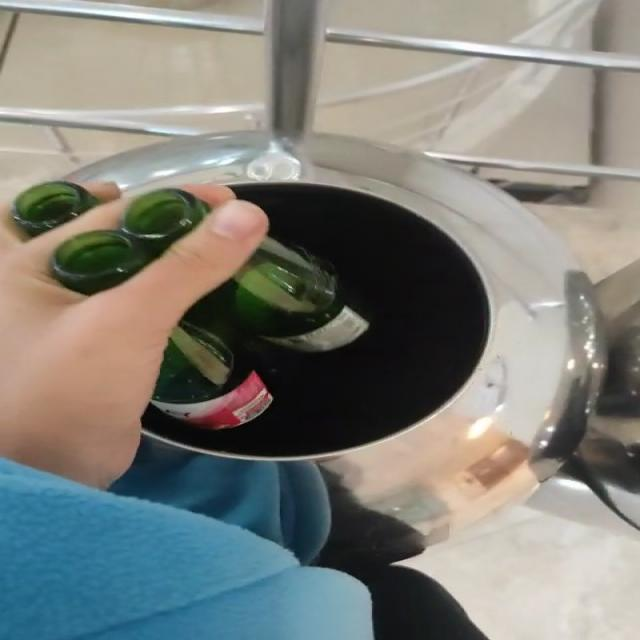glass: (151, 238, 369, 430), (51, 189, 209, 295), (12, 181, 97, 235)
